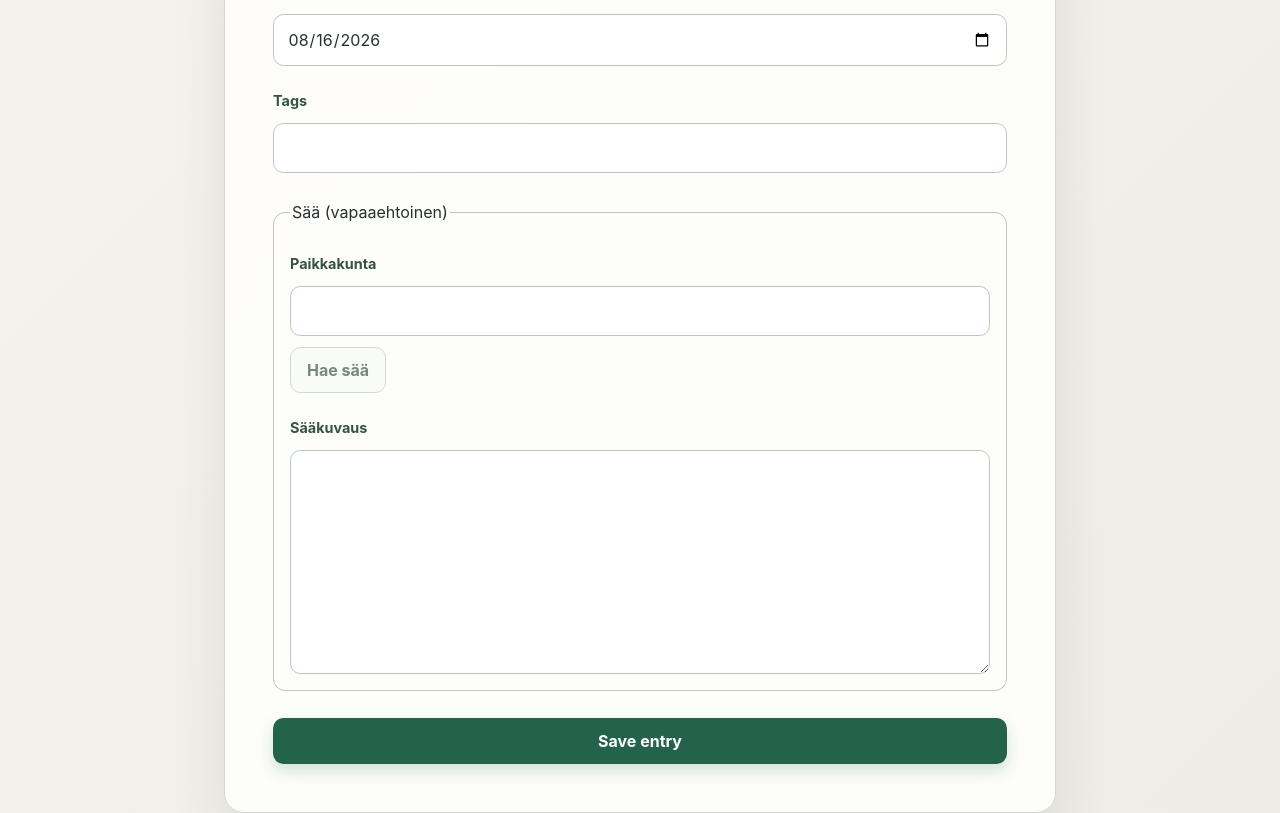
Scenario: NewEntryForm › shows saving feedback and disables submission while saving
(page scrolled)
Click the button "Save entry" at (640, 741), box x1=273 y1=718 x2=1007 y2=764
(page scrolled)
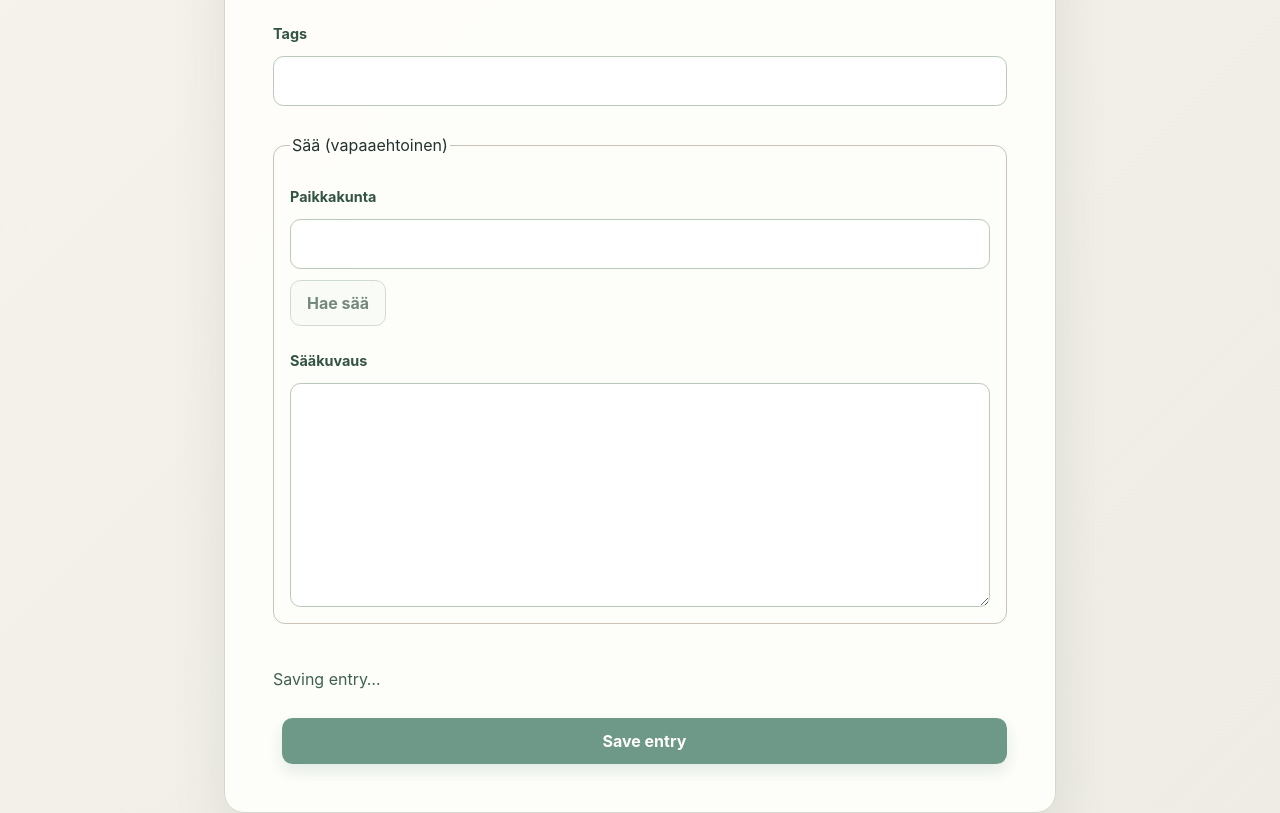
Result: the message reads "Saving entry…" at x1=273 y1=669 x2=381 y2=689
Result: the button "Save entry" is disabled at x1=282 y1=718 x2=1007 y2=764
